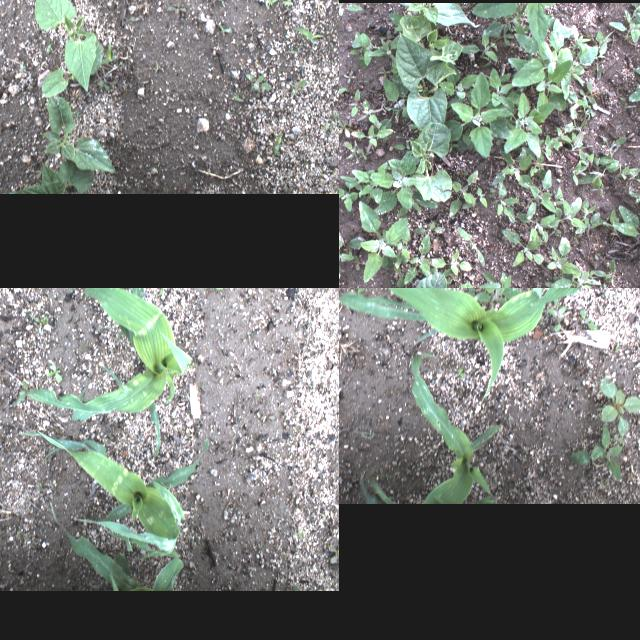crop: (9, 288, 195, 461), (339, 288, 584, 397), (23, 430, 199, 552), (408, 352, 500, 502), (49, 502, 183, 590), (57, 288, 176, 349), (396, 29, 456, 140), (33, 0, 96, 92), (42, 97, 118, 173), (406, 121, 452, 202), (388, 12, 462, 60), (40, 40, 102, 96), (10, 157, 94, 193), (400, 2, 480, 26), (359, 469, 396, 503), (387, 273, 447, 288)
weed: (436, 70, 516, 158), (348, 200, 408, 282), (482, 92, 556, 158), (507, 14, 573, 86), (368, 150, 438, 214), (471, 2, 555, 42), (376, 58, 420, 134), (597, 375, 640, 441), (572, 428, 626, 478), (560, 42, 598, 100), (436, 62, 486, 106), (536, 60, 570, 110), (502, 226, 544, 266), (492, 146, 532, 188), (544, 260, 601, 288), (540, 196, 588, 228), (526, 169, 556, 219), (340, 170, 384, 204), (404, 234, 432, 284), (458, 28, 498, 62), (578, 159, 622, 189), (449, 170, 477, 217), (612, 204, 640, 251), (491, 67, 523, 107), (518, 212, 556, 242), (610, 4, 640, 41), (426, 250, 472, 274), (458, 227, 484, 266), (566, 90, 592, 128), (350, 124, 394, 146), (496, 182, 520, 222), (596, 29, 614, 80), (368, 34, 400, 62), (526, 144, 548, 180), (339, 233, 356, 279), (547, 237, 571, 269), (567, 129, 591, 161), (589, 258, 614, 288), (350, 32, 372, 66), (482, 271, 522, 288), (475, 288, 520, 303), (396, 226, 410, 274), (548, 302, 570, 332), (576, 212, 604, 234), (576, 306, 598, 332), (600, 134, 626, 154), (572, 23, 592, 49), (339, 179, 354, 213), (245, 73, 273, 91), (297, 26, 323, 44), (98, 41, 118, 63), (552, 186, 564, 220), (44, 363, 64, 383), (619, 165, 640, 184), (496, 23, 514, 45), (540, 136, 562, 154), (414, 220, 444, 233), (362, 98, 378, 122), (343, 142, 362, 162), (573, 160, 587, 186), (578, 199, 596, 219), (557, 122, 575, 142), (602, 210, 618, 232), (339, 2, 363, 16), (588, 156, 614, 168), (167, 0, 187, 14), (350, 88, 360, 116), (628, 186, 640, 208), (272, 132, 282, 158), (579, 88, 595, 104), (631, 2, 640, 27), (217, 22, 233, 36), (390, 274, 406, 288), (380, 29, 394, 45), (339, 117, 349, 137), (478, 186, 487, 208), (290, 80, 304, 94), (452, 366, 466, 380), (581, 153, 593, 169), (329, 545, 339, 563), (344, 70, 356, 84), (549, 223, 563, 235), (358, 148, 372, 160), (266, 0, 280, 9), (98, 79, 110, 89), (378, 66, 390, 76), (331, 105, 339, 119), (339, 84, 346, 99), (233, 95, 243, 102), (210, 0, 223, 5), (45, 42, 51, 52), (322, 124, 330, 130), (281, 0, 293, 4), (594, 251, 600, 259), (20, 62, 24, 72)
